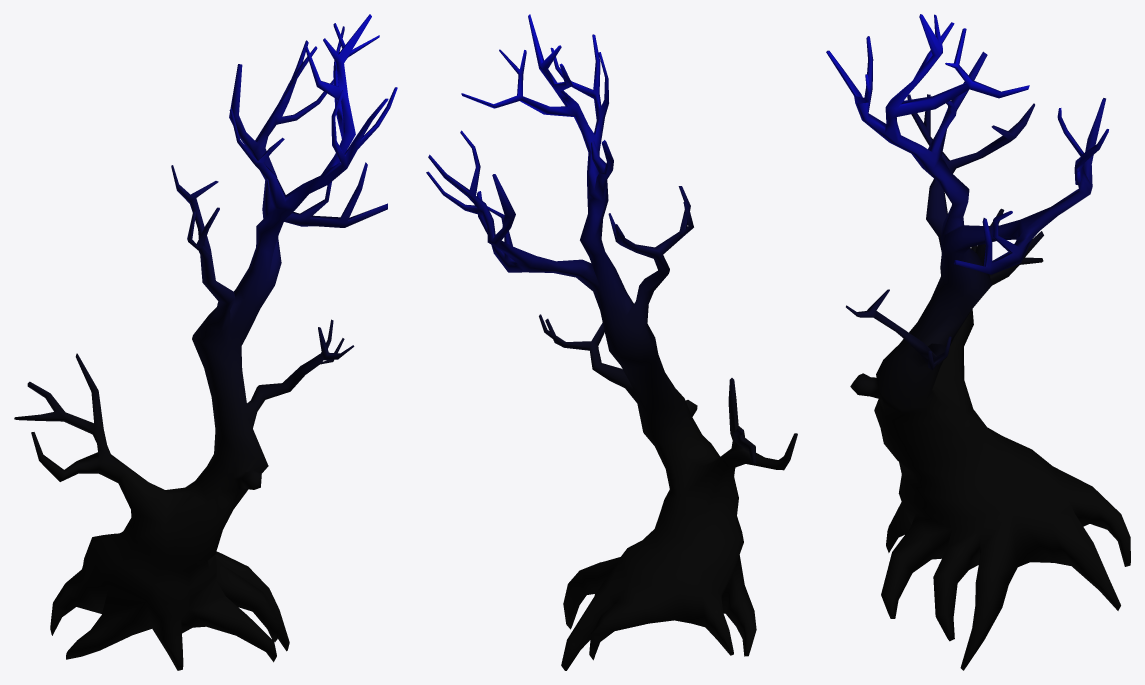
File: pillar_tree_01.fbx
3 views of the same model, side by side, from view 1: azimuth 30°, elevation 25°; view 2: azimuth 150°, elevation 25°; view 3: azimuth 270°, elevation 25° (orthographic). The views are drawn at different scales.
Visible parts, largest first — view 1: Tree_01_j_LOD0; view 2: Tree_01_j_LOD0; view 3: Tree_01_j_LOD0.
Boxes of the visible parts, x1,y1,x2,y2 form: Tree_01_j_LOD0: (14,14,397,670); Tree_01_j_LOD0: (426,14,797,670); Tree_01_j_LOD0: (826,14,1130,670).
Bounding box in the file's own units: 5.59 × 9.6 × 3.84.
